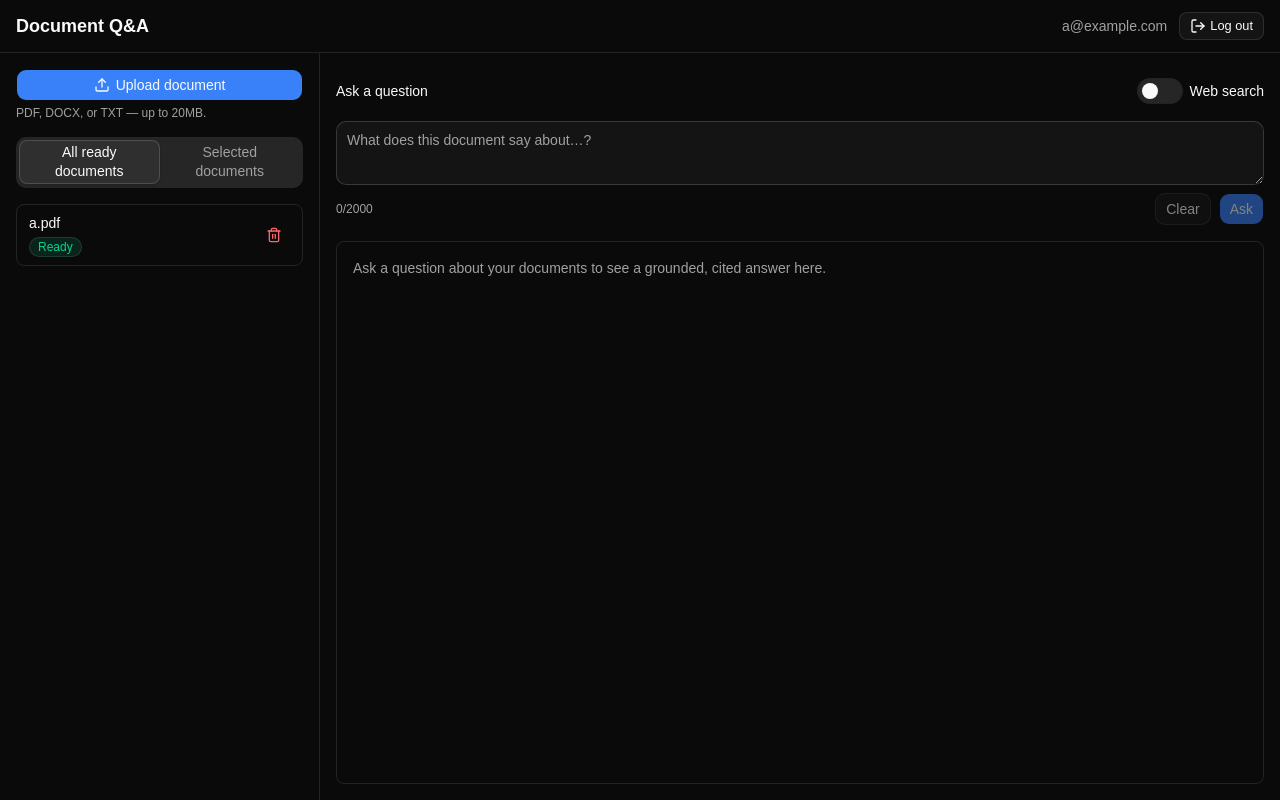
Test case: WorkspacePage selection modes › allows asking in "All ready documents" mode with no selection required
expect the button "Ask" is shown: met, box [1219,193,1264,225]
Type "What is this about?" into the text box labelled "Ask a question" at (800, 153), box [336,121,1264,185]
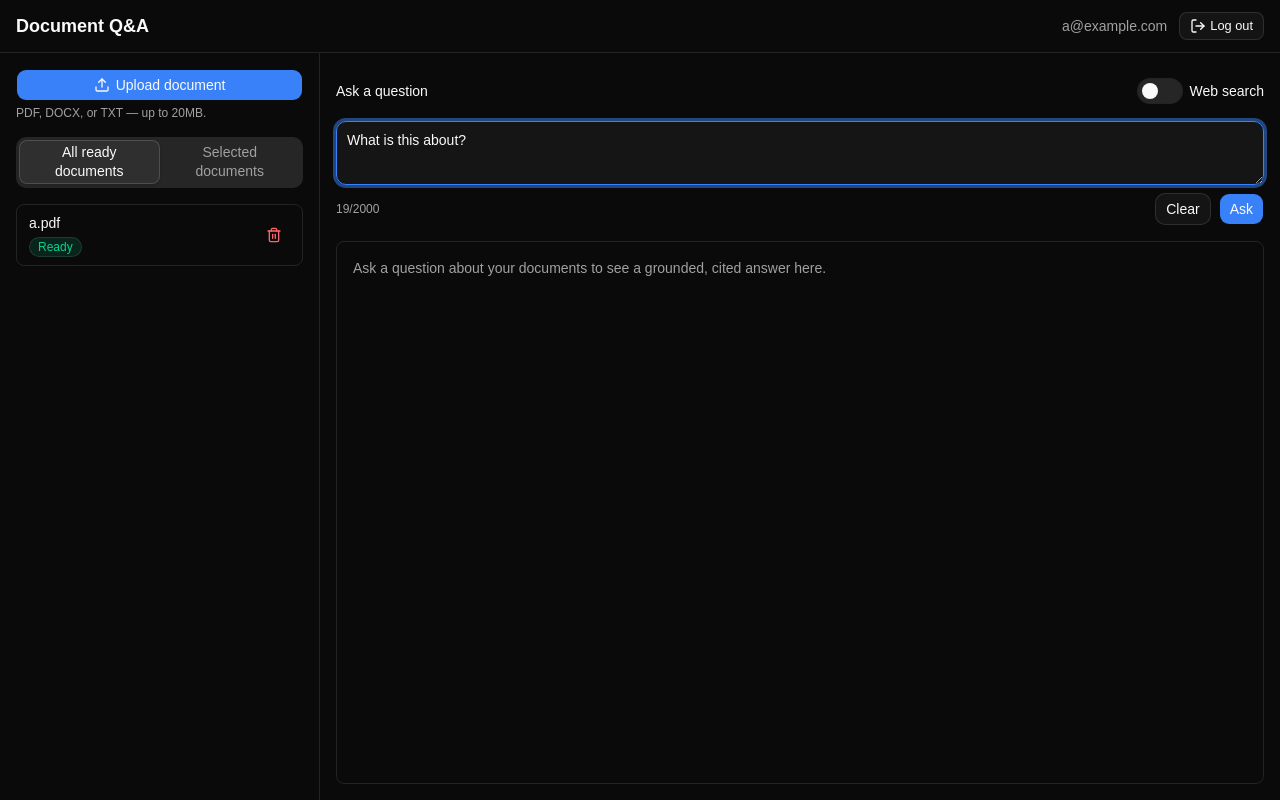
expect the button "Ask" is enabled: met, box [1219,193,1264,225]
